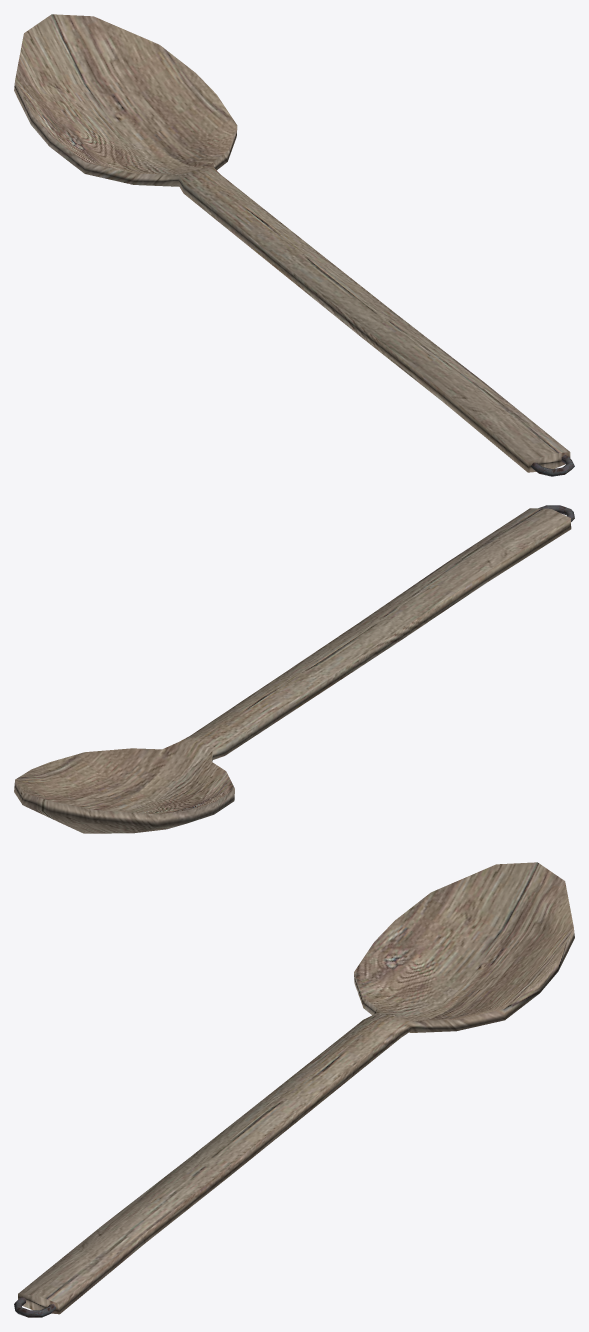
Rendered from SM_KitchenwareE.FBX.
The picture shows the model from 3 angles, top to bottom: view 1: azimuth 30°, elevation 25°; view 2: azimuth 150°, elevation 25°; view 3: azimuth 330°, elevation 25°; orthographic projection.
Visible parts, largest first — view 1: SM_KitchenwareE; view 2: SM_KitchenwareE; view 3: SM_KitchenwareE.
Boxes of the visible parts, x1,y1,x2,y2 form: SM_KitchenwareE: [14, 14, 574, 476]; SM_KitchenwareE: [14, 505, 574, 833]; SM_KitchenwareE: [14, 862, 574, 1317].
Bounding box in the file's own units: 6.41 × 3.25 × 34.42.
